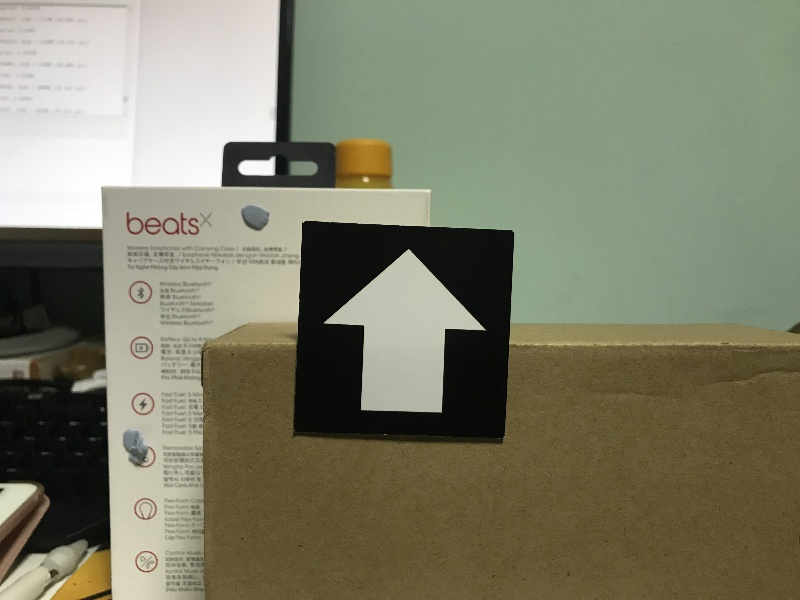UA-1: (307, 232, 502, 433)
